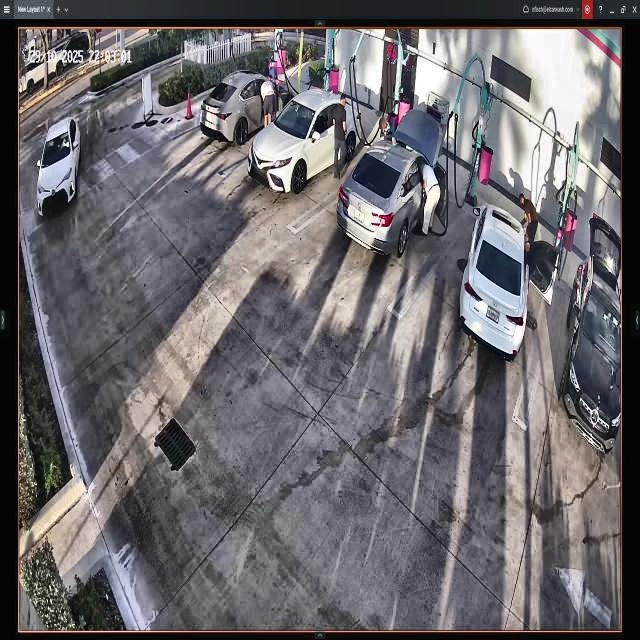Car: (340, 111, 436, 256), (251, 89, 362, 190), (462, 204, 528, 358), (201, 69, 295, 142)
